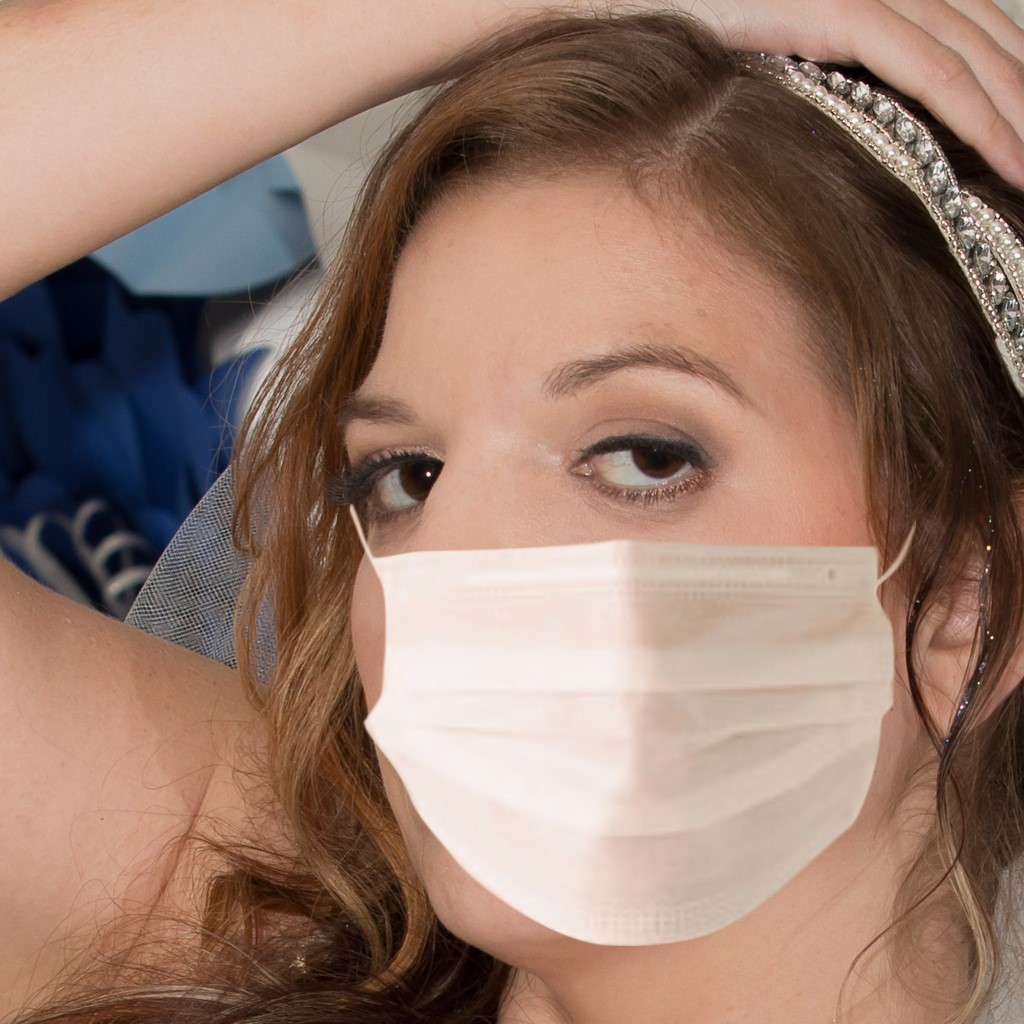con_mascara: (341, 72, 959, 958)
